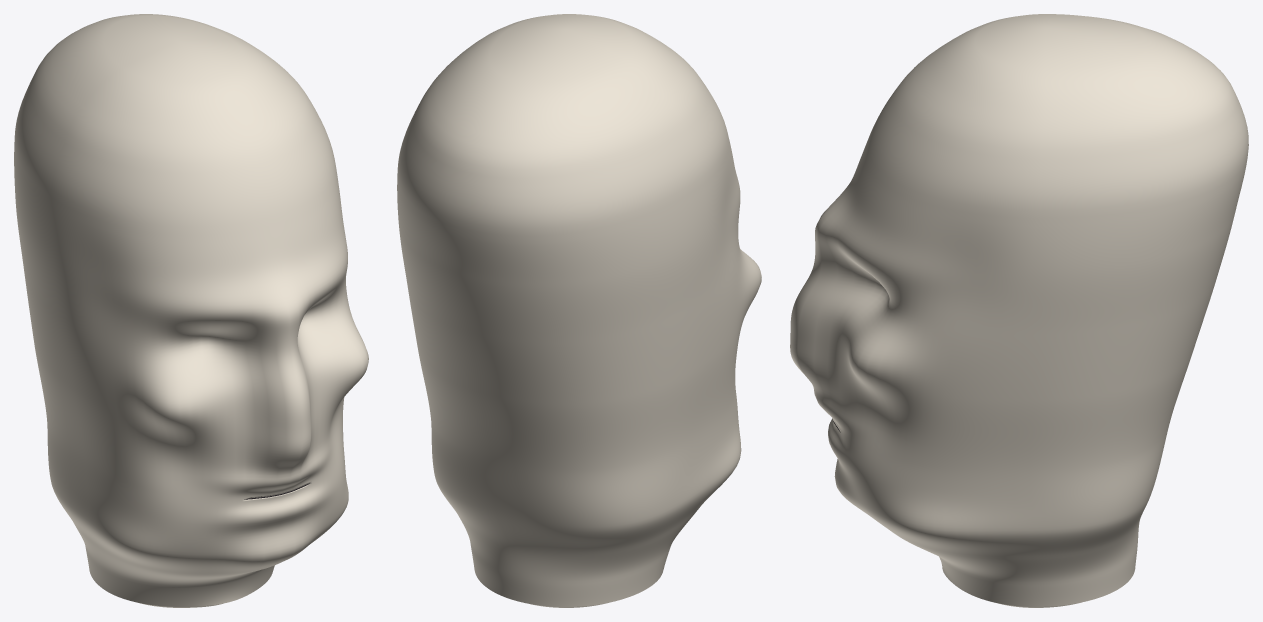
File: th-head.glb
The picture shows the model from 3 angles, left to right: view 1: azimuth 30°, elevation 25°; view 2: azimuth 150°, elevation 25°; view 3: azimuth 270°, elevation 25°; orthographic projection. The views are drawn at different scales.
Parts seen in each view (by area): view 1: th-head; view 2: th-head; view 3: th-head.
Part boxes in pixels (x1,y1,x2,y2): th-head: [14, 14, 368, 607]; th-head: [397, 14, 761, 607]; th-head: [790, 14, 1248, 607].
Size of the model in its own units: 0.153 by 0.3002 by 0.2236.
